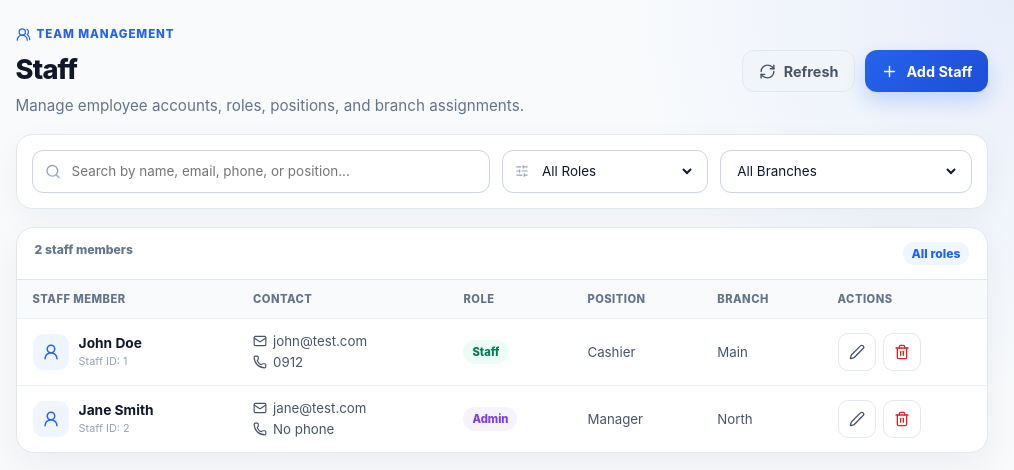
loads and searches staff
Check: the text "John Doe" is shown, box [79,335,142,351]
Step 1. Type "Jane" into the search field named "Search staff" → (273, 171), box [70,162,477,180]
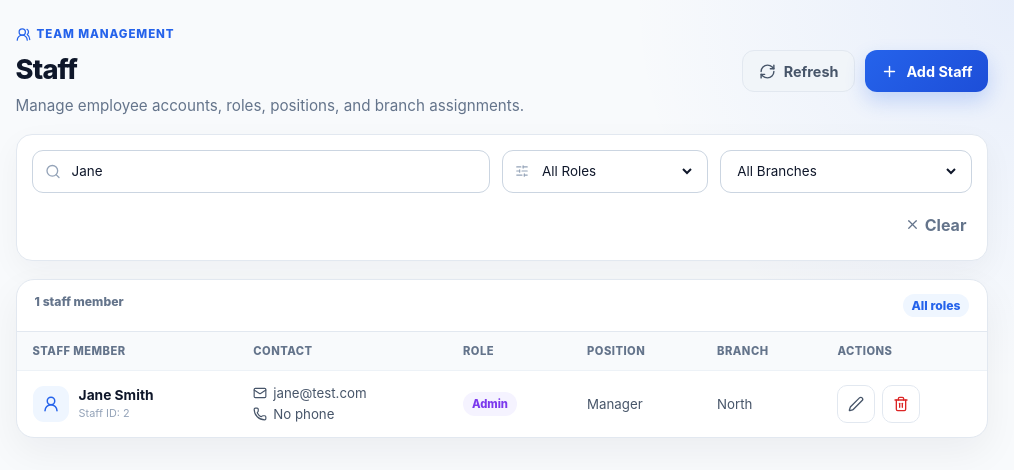
Check: the text "Jane Smith" is shown, box [79,387,154,403]
Check: the text "John Doe" is gone
